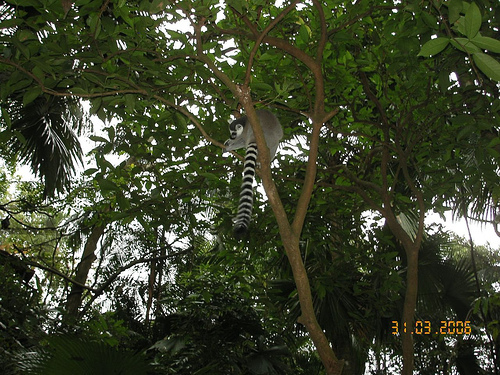cat: (218, 105, 285, 233)
